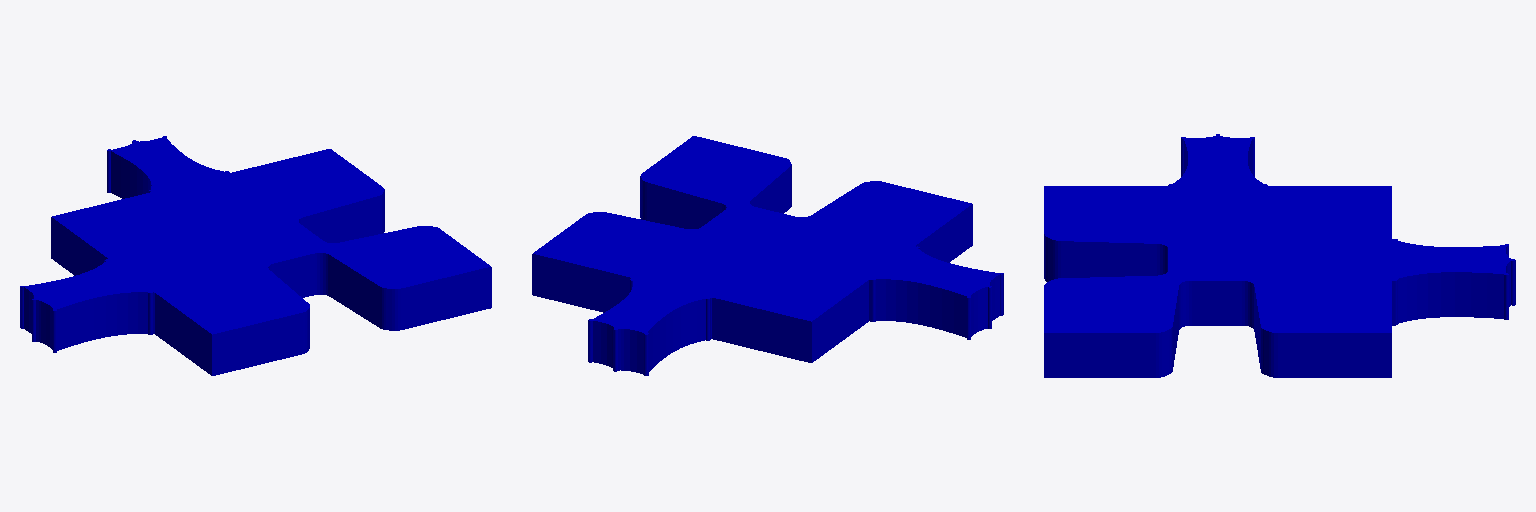
robot.urdf — triangle:
<?xml version="1.0" ?>
<robot name="triangle">
  <link name="baseLink">
    <contact>
      <lateral_friction value="0.2"/>
      <rolling_friction value="0.0"/>
	<restitution value="0.0" />
    </contact>
    <inertial>
      <origin rpy="0 0 0" xyz="0 0 0.5"/>
       <mass value="10"/>
       <inertia ixx="0" ixy="0" ixz="0" iyy="0" iyz="0" izz="0"/>
    </inertial>
    <visual>
      <origin rpy="0 0 0" xyz="0 0 0"/>
      <geometry>
		<mesh filename="./block_design.obj" scale="1 1 1"/>
      </geometry>
       <material name="blue">
        <color rgba="0 0 0.8 1"/>
      </material>
    </visual>
    <collision>
      <origin rpy="0 0 0" xyz="0 0 0"/>
      <geometry>
	 	<mesh filename="./block_design.obj" scale="1 1 1"/>
      </geometry>
    </collision>
  </link>
</robot>

--- What the picture shows (computed from the rendered views, not written in the file) ---
Views: 3 orthographic renders of the robot side by side, from view 1: azimuth 30°, elevation 25°; view 2: azimuth 150°, elevation 25°; view 3: azimuth 270°, elevation 25°.
Robot: triangle — 1 links, 0 joints (none); root link baseLink; default pose: every joint at zero.
Visible links, largest first — view 1: baseLink; view 2: baseLink; view 3: baseLink.
Link boxes in pixels (x1,y1,x2,y2): baseLink: (20, 136, 491, 375); baseLink: (532, 136, 1003, 375); baseLink: (1044, 134, 1515, 377).
Bounding box of the posed robot: 38 × 38 × 4 m (x, y, z).
Meshes: 1 distinct files referenced, 1 mesh visuals loaded (1 OBJ).